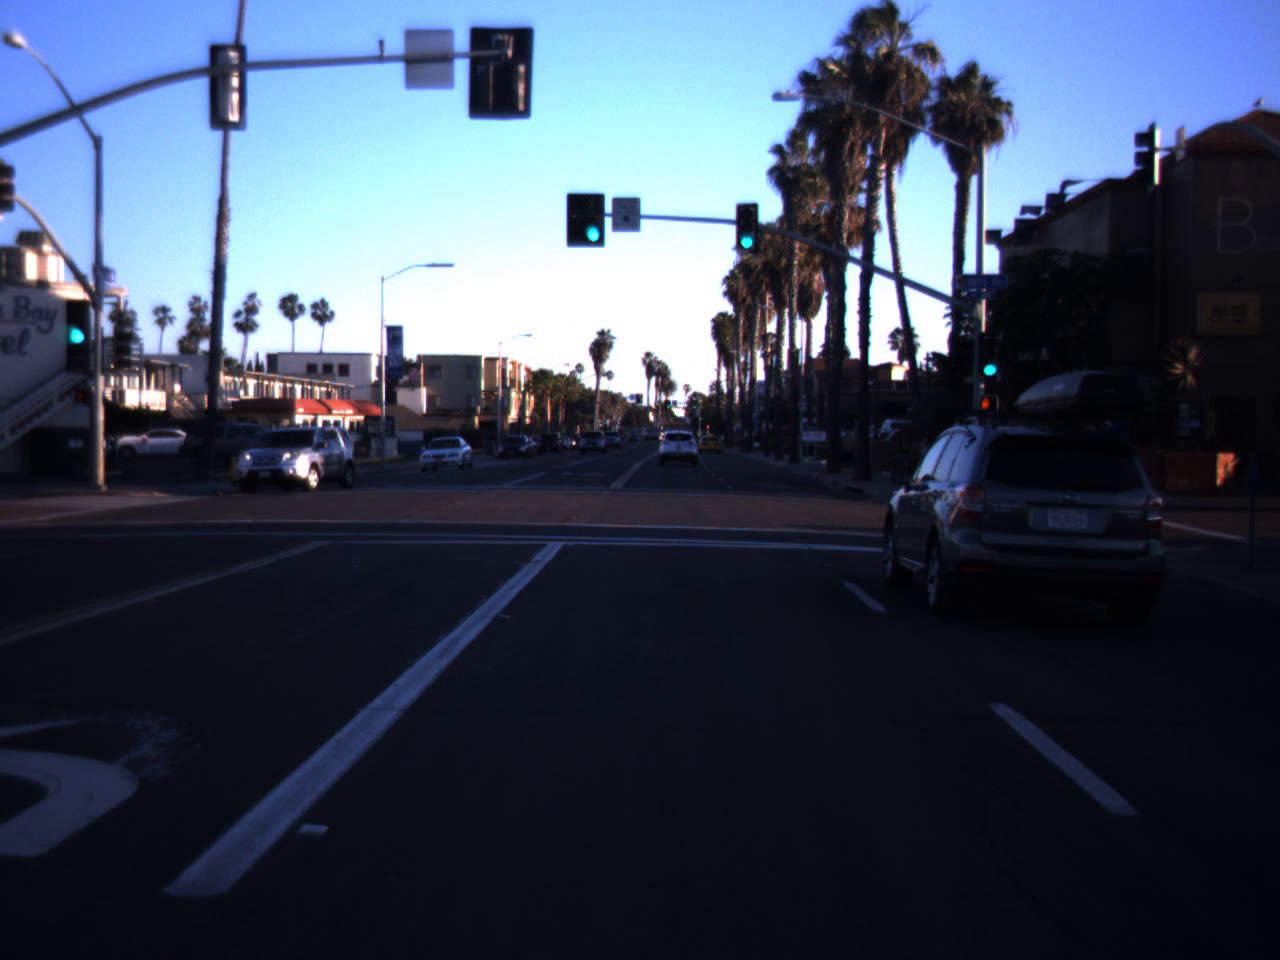go: (58, 284, 97, 349), (578, 182, 608, 247), (732, 203, 762, 253), (975, 334, 1005, 379)
